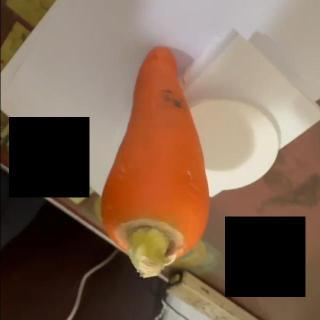carrot: (99, 45, 209, 279)
